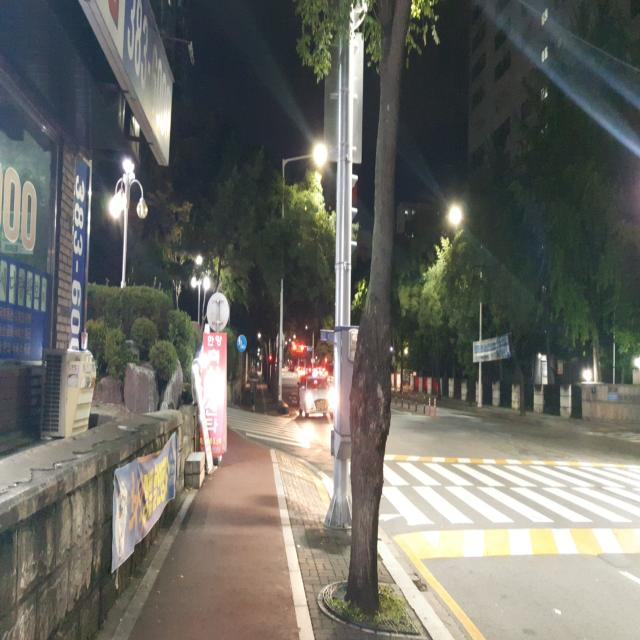횡단보도: (365, 462, 639, 526), (226, 406, 310, 449)
